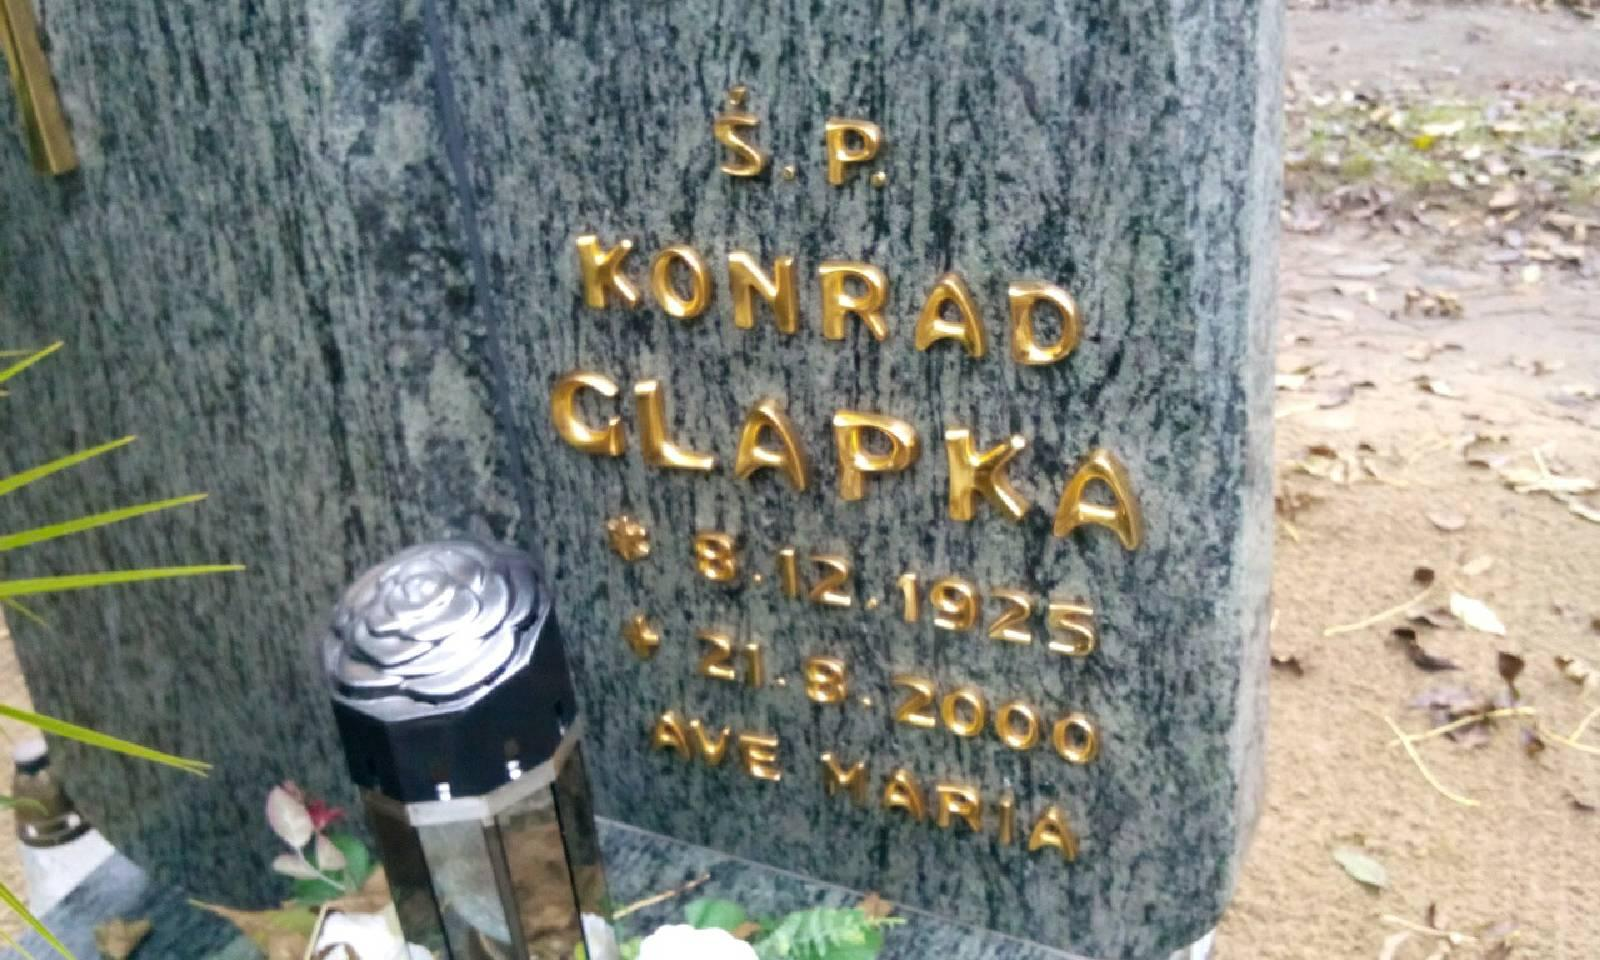upright: (421, 0, 1275, 949)
